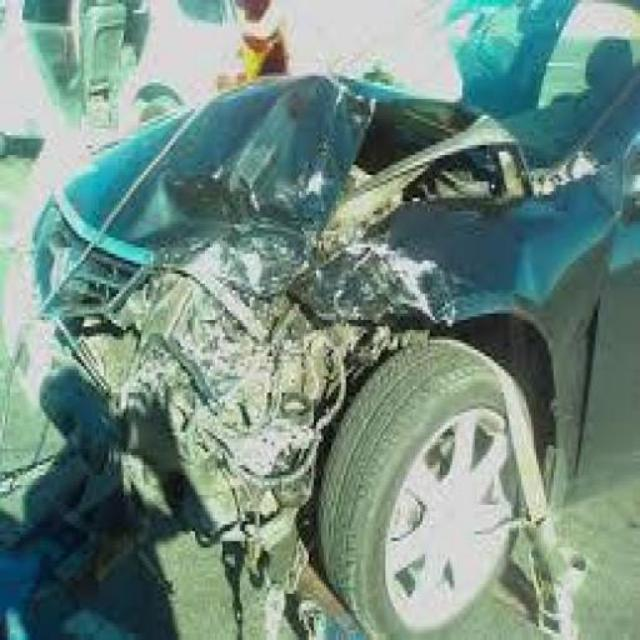crash: (43, 71, 620, 585)
